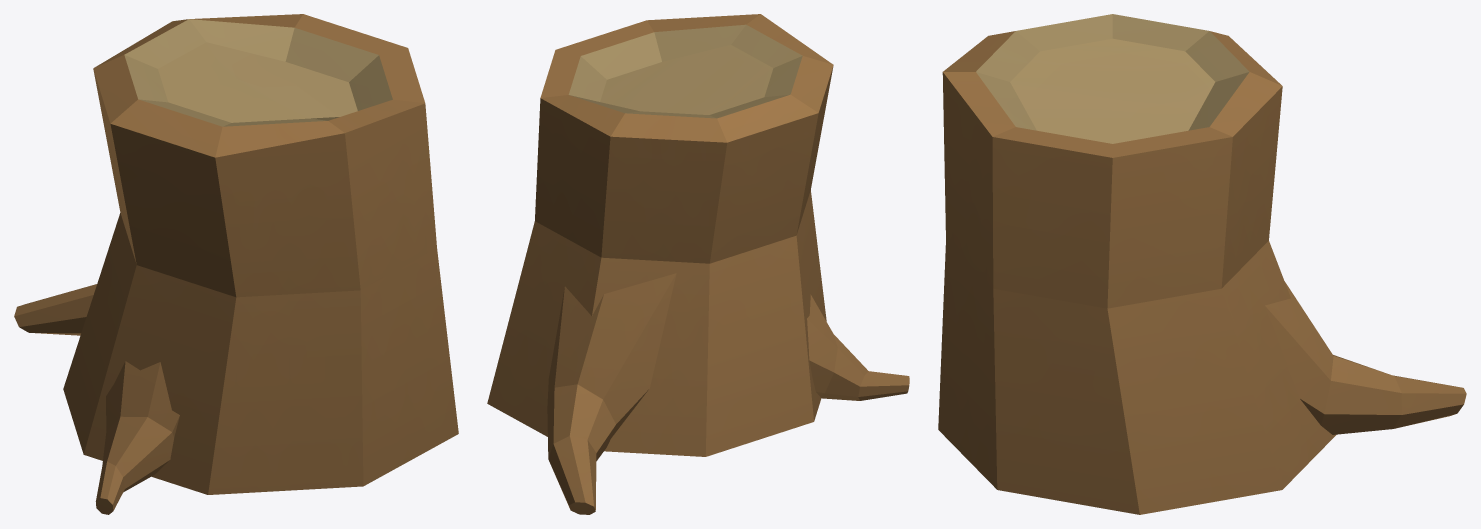
The model's file is Stump002.fbx.
The picture shows the model from 3 angles, left to right: view 1: azimuth 30°, elevation 25°; view 2: azimuth 150°, elevation 25°; view 3: azimuth 270°, elevation 25°; orthographic projection. The views are drawn at different scales.
Parts seen in each view (by area): view 1: Cylinder.016; view 2: Cylinder.016; view 3: Cylinder.016.
Boxes of the visible parts, bbox=[...] form: Cylinder.016: bbox=[14, 14, 458, 514]; Cylinder.016: bbox=[487, 14, 909, 514]; Cylinder.016: bbox=[938, 14, 1466, 514].
Bounding box in the file's own units: 127 × 112 × 146.
